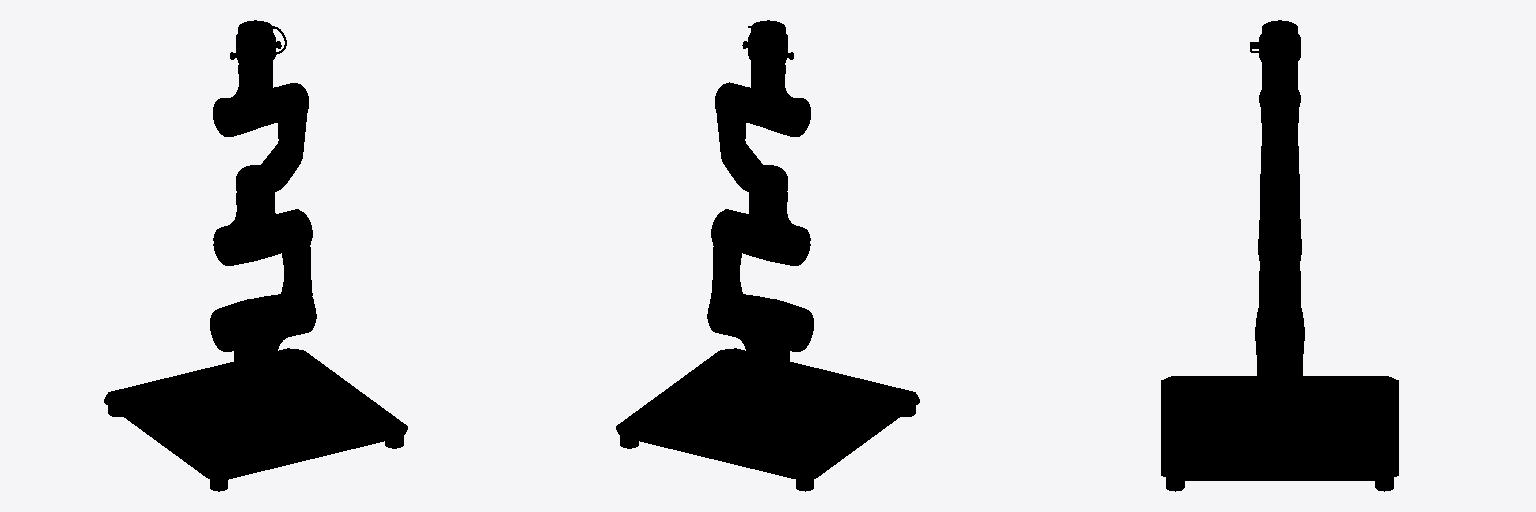
URDF robot description (mara):
<?xml version="1.0" ?>
<!-- =================================================================================== -->
<!-- |    This document was autogenerated by xacro from [local-path]/ros2_mara_ws/src/mara/mara_description/urdf/mara_robot_gripper_ur_j.urdf.xacro | -->
<!-- |    EDITING THIS FILE BY HAND IS NOT RECOMMENDED                                 | -->
<!-- =================================================================================== -->
<robot name="mara" xmlns:xacro="http://ros.org/wiki/xacro">
  <!--
  Author: Alejandro  Hernandez
-->
  <link name="base_link">
    <inertial>
      <origin rpy="0 0 0" xyz="8.625E-08 -4.6583E-06 0.03145"/>
      <mass value="7.033"/>
      <inertia ixx="0.1478344" ixy="-0.00001" ixz="0.0" iyy="0.14782335" iyz="0.0" izz="0.29471799"/>
    </inertial>
    <visual>
      <origin rpy="0 0 0" xyz="0 0 0"/>
      <geometry>
        <mesh filename="package://mara_description/meshes/Base_plancha.dae" scale="0.001 0.001 0.001"/>
      </geometry>
      <material name="Gazebo/Grey">
        <color rgba="0. 0. 0. 1"/>
      </material>
    </visual>
    <collision>
      <origin rpy="0 0 0" xyz="0 0 0"/>
      <geometry>
        <mesh filename="package://mara_description/meshes/Base_plancha.dae" scale="0.001 0.001 0.001"/>
      </geometry>
    </collision>
  </link>
  <gazebo reference="base_link">
    <material>Gazebo/Grey</material>
    <selfCollide>True</selfCollide>
  </gazebo>
  <link name="base_robot">
    <inertial>
      <origin rpy="0 0 0" xyz="8.625E-08 -4.6583E-06 0.03145"/>
      <mass value="7.033"/>
      <inertia ixx="0.1478344" ixy="-0.00001" ixz="0.0" iyy="0.14782335" iyz="0.0" izz="0.29471799"/>
    </inertial>
    <visual>
      <origin rpy="0 0 0" xyz="0 0 0"/>
      <geometry>
        <mesh filename="package://mara_description/meshes/Base.dae" scale="0.001 0.001 0.001"/>
      </geometry>
      <material name="Gazebo/Black">
        <color rgba="0. 0. 0. 1"/>
      </material>
    </visual>
    <collision>
      <origin rpy="0 0 0" xyz="0 0 0"/>
      <geometry>
        <mesh filename="package://mara_description/meshes/Base.dae" scale="0.001 0.001 0.001"/>
      </geometry>
    </collision>
  </link>
  <gazebo reference="base_robot">
    <material>Gazebo/Black</material>
    <selfCollide>True</selfCollide>
  </gazebo>
  <link name="motor1_link">
    <inertial>
      <origin rpy="0 0 0" xyz="8.625E-08 -4.6583E-06 0.03145"/>
      <mass value="5.8"/>
      <inertia ixx="0.10105893" ixy="0.000211" ixz="-0.004" iyy="0.09386624" iyz="-0.01698537" izz="0.01449937"/>
    </inertial>
    <visual>
      <origin rpy="0 0 0" xyz="0 0 0"/>
      <geometry>
        <mesh filename="package://mara_description/meshes/MARA_T49.dae" scale="0.001 0.001 0.001"/>
      </geometry>
      <material name="Gazebo/White">
        <color rgba="0. 0. 0. 1"/>
      </material>
    </visual>
    <collision>
      <origin rpy="0 0 0" xyz="0 0 0"/>
      <geometry>
        <mesh filename="package://mara_description/meshes/MARA_T49.dae" scale="0.001 0.001 0.001"/>
      </geometry>
    </collision>
  </link>
  <gazebo reference="motor1_link">
    <material>Gazebo/White</material>
    <selfCollide>True</selfCollide>
  </gazebo>
  <link name="motor1_cover">
    <inertial>
      <origin rpy="0 0 0" xyz="8.625E-08 -4.6583E-06 0.03145"/>
      <mass value="5.8"/>
      <inertia ixx="0.10105893" ixy="0.000211" ixz="-0.004" iyy="0.09386624" iyz="-0.01698537" izz="0.01449937"/>
    </inertial>
    <visual>
      <origin rpy="0 0 0" xyz="0 0 0"/>
      <geometry>
        <mesh filename="package://mara_description/meshes/MARA_T49_Black.dae" scale="0.001 0.001 0.001"/>
      </geometry>
      <material name="Gazebo/Black">
        <color rgba="0. 0. 0. 1"/>
      </material>
    </visual>
    <collision>
      <origin rpy="0 0 0" xyz="0 0 0"/>
      <geometry>
        <mesh filename="package://mara_description/meshes/MARA_T49_Black.dae" scale="0.001 0.001 0.001"/>
      </geometry>
    </collision>
  </link>
  <gazebo reference="motor1_cover">
    <material>Gazebo/Black</material>
    <selfCollide>True</selfCollide>
  </gazebo>
  <link name="motor2_link">
    <inertial>
      <origin rpy="0 0 0" xyz="8.625E-08 -4.6583E-06 0.03145"/>
      <mass value="1.03237"/>
      <inertia ixx="0.014865226" ixy="0.0" ixz="0.0" iyy="0.01557" iyz="0.00071" izz="0.00092"/>
    </inertial>
    <visual>
      <origin rpy="0 0 0" xyz="0 0 0"/>
      <geometry>
        <mesh filename="package://mara_description/meshes/MARA_Link1.dae" scale="0.001 0.001 0.001"/>
      </geometry>
      <material name="Gazebo/Black">
        <color rgba="0. 0. 0. 1"/>
      </material>
    </visual>
    <collision>
      <origin rpy="0 0 0" xyz="0 0 0"/>
      <geometry>
        <mesh filename="package://mara_description/meshes/MARA_Link1.dae" scale="0.001 0.001 0.001"/>
      </geometry>
    </collision>
  </link>
  <gazebo reference="motor2_link">
    <material>Gazebo/Black</material>
    <selfCollide>True</selfCollide>
  </gazebo>
  <link name="motor3_link">
    <inertial>
      <origin rpy="0 0 0" xyz="8.625E-08 -4.6583E-06 0.03145"/>
      <mass value="3.8"/>
      <inertia ixx="0.04517" ixy="0.00002" ixz="0.0" iyy="0.01587" iyz="0.01444" izz="0.03303"/>
    </inertial>
    <visual>
      <origin rpy="0 0 0" xyz="0 0 0"/>
      <geometry>
        <mesh filename="package://mara_description/meshes/MARA_T30.dae" scale="0.001 0.001 0.001"/>
      </geometry>
      <material name="Gazebo/White">
        <color rgba="0. 0. 0. 1"/>
      </material>
    </visual>
    <collision>
      <origin rpy="0 0 0" xyz="0 0 0"/>
      <geometry>
        <mesh filename="package://mara_description/meshes/MARA_T30.dae" scale="0.001 0.001 0.001"/>
      </geometry>
    </collision>
  </link>
  <gazebo reference="motor3_link">
    <material>Gazebo/White</material>
    <selfCollide>True</selfCollide>
  </gazebo>
  <link name="motor3_cover">
    <inertial>
      <origin rpy="0 0 0" xyz="8.625E-08 -4.6583E-06 0.03145"/>
      <mass value="3.8"/>
      <inertia ixx="0.04517" ixy="0.00002" ixz="0.0" iyy="0.01587" iyz="0.01444" izz="0.03303"/>
    </inertial>
    <visual>
      <origin rpy="0 0 0" xyz="0 0 0"/>
      <geometry>
        <mesh filename="package://mara_description/meshes/MARA_T30_Black.dae" scale="0.001 0.001 0.001"/>
      </geometry>
      <material name="Gazebo/Black">
        <color rgba="0. 0. 0. 1"/>
      </material>
    </visual>
    <collision>
      <origin rpy="0 0 0" xyz="0 0 0"/>
      <geometry>
        <mesh filename="package://mara_description/meshes/MARA_T30_Black.dae" scale="0.001 0.001 0.001"/>
      </geometry>
    </collision>
  </link>
  <gazebo reference="motor3_cover">
    <material>Gazebo/Black</material>
    <selfCollide>True</selfCollide>
  </gazebo>
  <link name="motor4_link">
    <inertial>
      <origin rpy="0 0 0" xyz="8.625E-08 -4.6583E-06 0.03145"/>
      <mass value="1.1"/>
      <inertia ixx="0.01464" ixy="0.0" ixz="0.0" iyy="0.00895" iyz="-0.00631" izz="0.00725"/>
    </inertial>
    <visual>
      <origin rpy="0 0 0" xyz="0 0 0"/>
      <geometry>
        <mesh filename="package://mara_description/meshes/MARA_Link2.dae" scale="0.001 0.001 0.001"/>
      </geometry>
      <material name="Gazebo/Black">
        <color rgba="0. 0. 0. 1"/>
      </material>
    </visual>
    <collision>
      <origin rpy="0 0 0" xyz="0 0 0"/>
      <geometry>
        <mesh filename="package://mara_description/meshes/MARA_Link2.dae" scale="0.001 0.001 0.001"/>
      </geometry>
    </collision>
  </link>
  <gazebo reference="motor4_link">
    <material>Gazebo/Black</material>
    <selfCollide>True</selfCollide>
  </gazebo>
  <link name="motor5_link">
    <inertial>
      <origin rpy="0 0 0" xyz="8.625E-08 -4.6583E-06 0.03145"/>
      <mass value="2.9"/>
      <inertia ixx="0.03406" ixy="0.0" ixz="0.0" iyy="0.01066" iyz="0.00989" izz="0.02563"/>
    </inertial>
    <visual>
      <origin rpy="0 0 0" xyz="0 0 0"/>
      <geometry>
        <mesh filename="package://mara_description/meshes/MARA_T5.4.dae" scale="0.001 0.001 0.001"/>
      </geometry>
      <material name="Gazebo/White">
        <color rgba="0. 0. 0. 1"/>
      </material>
    </visual>
    <collision>
      <origin rpy="0 0 0" xyz="0 0 0"/>
      <geometry>
        <mesh filename="package://mara_description/meshes/MARA_T5.4.dae" scale="0.001 0.001 0.001"/>
      </geometry>
    </collision>
  </link>
  <gazebo reference="motor5_link">
    <material>Gazebo/White</material>
    <selfCollide>True</selfCollide>
  </gazebo>
  <link name="motor5_cover">
    <inertial>
      <origin rpy="0 0 0" xyz="8.625E-08 -4.6583E-06 0.03145"/>
      <mass value="2.9"/>
      <inertia ixx="0.03406" ixy="0.0" ixz="0.0" iyy="0.01066" iyz="0.00989" izz="0.02563"/>
    </inertial>
    <visual>
      <origin rpy="0 0 0" xyz="0 0 0"/>
      <geometry>
        <mesh filename="package://mara_description/meshes/MARA_T5.4_black.dae" scale="0.001 0.001 0.001"/>
      </geometry>
      <material name="Gazebo/Black">
        <color rgba="0. 0. 0. 1"/>
      </material>
    </visual>
    <collision>
      <origin rpy="0 0 0" xyz="0 0 0"/>
      <geometry>
        <mesh filename="package://mara_description/meshes/MARA_T5.4_black.dae" scale="0.001 0.001 0.001"/>
      </geometry>
    </collision>
  </link>
  <gazebo reference="motor5_cover">
    <material>Gazebo/Black</material>
    <selfCollide>True</selfCollide>
  </gazebo>
  <link name="motor6_link">
    <inertial>
      <origin rpy="0 0 0" xyz="8.625E-08 -4.6583E-06 0.03145"/>
      <mass value="2.9"/>
      <inertia ixx="0.0005" ixy="0.0" ixz="0.0" iyy="0.0005" iyz="0.0000" izz="0.0003"/>
    </inertial>
    <visual>
      <origin rpy="0 0 0" xyz="0 0 0"/>
      <geometry>
        <mesh filename="package://mara_description/meshes/MARA_GripperAdapter.dae" scale="0.001 0.001 0.001"/>
      </geometry>
      <material name="Gazebo/Black">
        <color rgba="0. 0. 0. 1"/>
      </material>
    </visual>
    <collision>
      <origin rpy="0 0 0" xyz="0 0 0"/>
      <geometry>
        <mesh filename="package://mara_description/meshes/MARA_GripperAdapter.dae" scale="0.001 0.001 0.001"/>
      </geometry>
    </collision>
  </link>
  <gazebo reference="motor6_link">
    <material>Gazebo/Black</material>
    <selfCollide>True</selfCollide>
  </gazebo>
  <link name="ee_link">
    </link>
  <gazebo reference="ee_link">
    <material>Gazebo/Blue</material>
    <selfCollide>False</selfCollide>
  </gazebo>
  <joint name="joint_bases" type="fixed">
    <origin rpy="0 0 0" xyz="0 0 0.04"/>
    <parent link="base_link"/>
    <child link="base_robot"/>
  </joint>
  <joint name="motor1" type="revolute">
    <origin rpy="0 0 0" xyz="0 0 0.05122"/>
    <parent link="base_robot"/>
    <child link="motor1_link"/>
    <axis xyz="0 0 -1"/>
    <limit effort="330.0" lower="-3.1416" upper="3.1416" velocity="3.1416"/>
    <dynamics damping="0" friction="0"/>
  </joint>
  <joint name="motor1_cover_joint" type="fixed">
    <origin rpy="0 0 0" xyz="0 0 0.0"/>
    <parent link="motor1_link"/>
    <child link="motor1_cover"/>
  </joint>
  <joint name="motor2" type="revolute">
    <origin rpy="0 0 0" xyz="0.118 0 0.1637"/>
    <parent link="motor1_link"/>
    <child link="motor2_link"/>
    <axis xyz="-1 0 0"/>
    <limit effort="330.0" lower="-3.1416" upper="3.1416" velocity="3.1416"/>
    <dynamics damping="0" friction="0"/>
  </joint>
  <joint name="motor3" type="revolute">
    <origin rpy="0 0 0" xyz="-0.009 0 0.2"/>
    <parent link="motor2_link"/>
    <child link="motor3_link"/>
    <axis xyz="1 0 0"/>
    <limit effort="330.0" lower="-3.1416" upper="3.1416" velocity="3.1416"/>
    <dynamics damping="0" friction="0"/>
  </joint>
  <joint name="motor3_cover_joint" type="fixed">
    <origin rpy="0 0 0" xyz="0 0 0.0"/>
    <parent link="motor3_link"/>
    <child link="motor3_cover"/>
  </joint>
  <joint name="motor4" type="revolute">
    <origin rpy="0 0 0" xyz="-0.109255 0 0.149255"/>
    <parent link="motor3_link"/>
    <child link="motor4_link"/>
    <axis xyz="0 0 -1"/>
    <limit effort="330.0" lower="-3.1416" upper="3.1416" velocity="3.1416"/>
    <dynamics damping="0" friction="0"/>
  </joint>
  <joint name="motor5" type="revolute">
    <origin rpy="0 0 0" xyz="0.1054570 0 0.16074"/>
    <parent link="motor4_link"/>
    <child link="motor5_link"/>
    <axis xyz="1 0 0"/>
    <limit effort="330.0" lower="-3.1416" upper="3.1416" velocity="3.1416"/>
    <dynamics damping="0" friction="0"/>
  </joint>
  <joint name="motor5_cover_joint" type="fixed">
    <origin rpy="0 0 0" xyz="0 0 0.0"/>
    <parent link="motor5_link"/>
    <child link="motor5_cover"/>
  </joint>
  <joint name="motor6" type="revolute">
    <origin rpy="0 0 0" xyz="-0.10625569 0 0.14675569"/>
    <parent link="motor5_link"/>
    <child link="motor6_link"/>
    <axis xyz="0 0 -1"/>
    <limit effort="330.0" lower="-3.1416" upper="3.1416" velocity="3.1416"/>
    <dynamics damping="0" friction="0"/>
  </joint>
  <joint name="ee_link" type="fixed">
    <origin rpy="0 -1.57 0" xyz="0 0.0 0.165"/>
    <!-- 0.24 -->
    <parent link="motor6_link"/>
    <child link="ee_link"/>
  </joint>
  <link name="tool0"/>
  <joint name="motor6_link-tool0_fixed_joint" type="fixed">
    <origin rpy="0 -1.57 0" xyz="0 0.0 0.165"/>
    <parent link="motor6_link"/>
    <child link="tool0"/>
  </joint>
  <transmission name="shoulder_pan_trans">
    <type>transmission_interface/SimpleTransmission</type>
    <joint name="motor1">
      <hardwareInterface>hardware_interface/PositionJointInterface</hardwareInterface>
    </joint>
    <actuator name="shoulder_pan_motor">
      <mechanicalReduction>1</mechanicalReduction>
    </actuator>
  </transmission>
  <transmission name="shoulder_lift_trans">
    <type>transmission_interface/SimpleTransmission</type>
    <joint name="motor2">
      <hardwareInterface>hardware_interface/PositionJointInterface</hardwareInterface>
    </joint>
    <actuator name="shoulder_lift_motor">
      <mechanicalReduction>1</mechanicalReduction>
    </actuator>
  </transmission>
  <transmission name="elbow_trans">
    <type>transmission_interface/SimpleTransmission</type>
    <joint name="motor3">
      <hardwareInterface>hardware_interface/PositionJointInterface</hardwareInterface>
    </joint>
    <actuator name="elbow_motor">
      <mechanicalReduction>1</mechanicalReduction>
    </actuator>
  </transmission>
  <transmission name="wrist_1_trans">
    <type>transmission_interface/SimpleTransmission</type>
    <joint name="motor4">
      <hardwareInterface>hardware_interface/PositionJointInterface</hardwareInterface>
    </joint>
    <actuator name="wrist_1_motor">
      <mechanicalReduction>1</mechanicalReduction>
    </actuator>
  </transmission>
  <transmission name="wrist_2_trans">
    <type>transmission_interface/SimpleTransmission</type>
    <joint name="motor5">
      <hardwareInterface>hardware_interface/PositionJointInterface</hardwareInterface>
    </joint>
    <actuator name="wrist_2_motor">
      <mechanicalReduction>1</mechanicalReduction>
    </actuator>
  </transmission>
  <transmission name="wrist_3_trans">
    <type>transmission_interface/SimpleTransmission</type>
    <joint name="motor6">
      <hardwareInterface>hardware_interface/PositionJointInterface</hardwareInterface>
    </joint>
    <actuator name="wrist_3_motor">
      <mechanicalReduction>1</mechanicalReduction>
    </actuator>
  </transmission>
  <gazebo>
    <plugin filename="libgazebo_ros_joint_state_publisher.so" name="mara_joint_state">
      <ros>
        <argument>~/out:=joint_states</argument>
      </ros>
      <update_rate>25</update_rate>
      <joint_name>motor1</joint_name>
      <joint_name>motor2</joint_name>
      <joint_name>motor3</joint_name>
      <joint_name>motor4</joint_name>
      <joint_name>motor5</joint_name>
      <joint_name>motor6</joint_name>
      <joint_name>joint_finger</joint_name>
    </plugin>
    <plugin filename="libmara_gazebo_joint_plugin.so" name="hrim_actuation_servomotor_000000000001">
      <ros/>
      <axis1>motor2</axis1>
      <axis2>motor1</axis2>
      <type>series14</type>
    </plugin>
    <plugin filename="libmara_gazebo_joint_plugin.so" name="hrim_actuation_servomotor_000000000002">
      <ros/>
      <axis1>motor3</axis1>
      <axis2>motor4</axis2>
      <type>series17</type>
    </plugin>
    <plugin filename="libmara_gazebo_joint_plugin.so" name="hrim_actuation_servomotor_000000000003">
      <ros/>
      <axis1>motor5</axis1>
      <axis2>motor6</axis2>
      <type>series20</type>
    </plugin>
  </gazebo>
  <link name="body">
    <inertial>
      <origin rpy="0 0 0" xyz="0 0.000673 0.045393"/>
      <mass value="0.1"/>
      <inertia ixx="0.000001064877" ixy="0.0" ixz="0.0" iyy="0.000001056" iyz="0.00000000688" izz="0.000000442"/>
    </inertial>
    <collision name="collision">
      <geometry>
        <mesh filename="package://gimatic_modular/meshes/body.dae" scale="0.001 0.001 0.001"/>
      </geometry>
    </collision>
    <visual name="visual">
      <geometry>
        <mesh filename="package://gimatic_modular/meshes/body.dae" scale="0.001 0.001 0.001"/>
      </geometry>
    </visual>
  </link>
  <link name="finger1">
    <inertial>
      <origin rpy="0 0 0" xyz="0 0.000673 0.045393"/>
      <mass value="0.1"/>
      <inertia ixx="0.000001064877" ixy="0.0" ixz="0.0" iyy="0.000001056" iyz="0.00000000688" izz="0.000000442"/>
    </inertial>
    <collision name="collision">
      <geometry>
        <mesh filename="package://gimatic_modular/meshes/finger1.dae" scale="0.001 0.001 0.001"/>
      </geometry>
    </collision>
    <visual name="visual">
      <geometry>
        <mesh filename="package://gimatic_modular/meshes/finger1.dae" scale="0.001 0.001 0.001"/>
      </geometry>
    </visual>
  </link>
  <link name="finger2">
    <inertial>
      <origin rpy="0 0 0" xyz="0 0.000673 0.045393"/>
      <mass value="0.1"/>
      <inertia ixx="0.000001064877" ixy="0.0" ixz="0.0" iyy="0.000001056" iyz="0.00000000688" izz="0.000000442"/>
    </inertial>
    <collision name="collision">
      <geometry>
        <mesh filename="package://gimatic_modular/meshes/finger1.dae" scale="0.001 0.001 0.001"/>
      </geometry>
    </collision>
    <visual name="visual">
      <geometry>
        <mesh filename="package://gimatic_modular/meshes/finger1.dae" scale="0.001 0.001 0.001"/>
      </geometry>
    </visual>
  </link>
  <joint name="joint_finger" type="prismatic">
    <origin rpy="0 0 3.1416" xyz="-0.03987 0 0.155"/>
    <parent link="body"/>
    <child link="finger1"/>
    <axis xyz="-1 0 0"/>
    <limit effort="1000" lower="0" upper="0.0222" velocity="2.0"/>
  </joint>
  <joint name="joint_finger2" type="prismatic">
    <origin rpy="0 0 0" xyz="0.03987 0 0.155"/>
    <parent link="body"/>
    <child link="finger2"/>
    <axis xyz="-1 0 0"/>
    <limit effort="1000" lower="0" upper="0.0222" velocity="2.0"/>
    <mimic joint="joint_finger" multiplier="1" offset="0"/>
  </joint>
  <link name="table">
    <contact>
      <lateral_friction value="1.0"/>
    </contact>
    <inertial>
      <origin rpy="0 0 0" xyz="0 0 0"/>
      <mass value="0.00001"/>
      <inertia ixx="0.001" ixy="0" ixz="0" iyy="0.001" iyz="0" izz="0.001"/>
    </inertial>
    <visual>
      <origin rpy="0 0 0" xyz="0 0 0.6"/>
      <geometry>
        <mesh filename="package://mara_description/urdf/table.obj" scale="1.5 1 0.05"/>
      </geometry>
      <material name="brown">
        <color rgba="0.63 0.16 0.16 1"/>
      </material>
    </visual>
    <collision>
      <origin rpy="0 0 0" xyz="0 0 0.6"/>
      <geometry>
        <box size="1.5 1 0.05"/>
      </geometry>
    </collision>
    <visual>
      <origin rpy="0 0 0" xyz="-0.65 -0.4 0.29"/>
      <geometry>
        <mesh filename="package://mara_description/urdf/table.obj" scale="0.1 0.1 0.58"/>
      </geometry>
      <material name="framemat0"/>
    </visual>
    <visual>
      <origin rpy="0 0 0" xyz="-0.65 0.4 0.29"/>
      <geometry>
        <mesh filename="package://mara_description/urdf/table.obj" scale="0.1 0.1 0.58"/>
      </geometry>
      <material name="framemat0"/>
    </visual>
    <visual>
      <origin rpy="0 0 0" xyz="0.65 -0.4 0.29"/>
      <geometry>
        <mesh filename="package://mara_description/urdf/table.obj" scale="0.1 0.1 0.58"/>
      </geometry>
      <material name="framemat0"/>
    </visual>
    <visual>
      <origin rpy="0 0 0" xyz="0.65 0.4 0.29"/>
      <geometry>
        <mesh filename="package://mara_description/urdf/table.obj" scale="0.1 0.1 0.58"/>
      </geometry>
    </visual>
  </link>
  <gazebo reference="table">
    <material>Gazebo/Brown</material>
    <selfCollide>True</selfCollide>
  </gazebo>
  <link name="world"/>
  <joint name="end_effector_adapter_to_robotiq" type="fixed">
    <origin rpy="0 0 0" xyz=" 0 0 0.0"/>
    <parent link="motor6_link"/>
    <child link="body"/>
  </joint>
  <joint name="world_to_table_joint" type="fixed">
    <origin rpy="0 0 0" xyz="0 0 0.02"/>
    <parent link="world"/>
    <child link="table"/>
  </joint>
  <joint name="table_to_base_joint" type="fixed">
    <origin rpy="0 0 0" xyz="0 0 0.62"/>
    <parent link="table"/>
    <child link="base_link"/>
  </joint>
</robot>

--- Facts derived from the render (not from the file) ---
The picture shows the robot from 3 angles, left to right: view 1: azimuth 30°, elevation 25°; view 2: azimuth 150°, elevation 25°; view 3: azimuth 270°, elevation 25°; orthographic projection.
Model mara with 18 links and 17 joints (6 revolute, 2 prismatic, 9 fixed), rooted at world, posed every joint at zero.
Visible links, largest first — view 1: base_link, base_robot, motor1_link, motor4_link, motor3_link, motor2_link, motor1_cover, motor5_link, motor6_link, motor5_cover, motor3_cover; view 2: base_link, base_robot, motor1_link, motor4_link, motor3_link, motor2_link, motor1_cover, motor5_link, motor6_link, motor5_cover, motor3_cover; view 3: base_link, motor2_link, base_robot, motor4_link, motor6_link, motor3_link, motor5_link, motor1_link.
Boxes of the visible links, x1,y1,x2,y2 form: base_link: (104,348,407,491); base_robot: (201,372,310,435); motor1_link: (234,293,297,383); motor4_link: (236,83,308,196); motor3_link: (228,193,292,259); motor2_link: (281,209,316,334); motor1_cover: (210,292,302,387); motor5_link: (231,64,289,127); motor6_link: (230,20,286,66); motor5_cover: (213,61,294,136); motor3_cover: (213,189,297,265); base_link: (616,348,919,491); base_robot: (713,375,822,435); motor1_link: (726,293,789,383); motor4_link: (715,82,787,196); motor3_link: (731,192,795,259); motor2_link: (707,209,742,334); motor1_cover: (721,292,813,387); motor5_link: (734,64,792,127); motor6_link: (742,20,793,66); motor5_cover: (729,61,810,136); motor3_cover: (726,189,810,265); base_link: (1161,376,1398,491); motor2_link: (1257,245,1302,377); base_robot: (1230,384,1336,449); motor4_link: (1260,113,1299,200); motor6_link: (1250,20,1300,68); motor3_link: (1258,200,1301,260); motor5_link: (1261,66,1298,124); motor1_link: (1255,319,1304,395).
Bounding box of the posed robot: 0.5 × 0.5 × 0.9612 m (x, y, z).
Meshes: 14 distinct files referenced, 11 mesh visuals loaded (11 Collada DAE); not drawn: 8 (reference not matched to a file when rendering).
